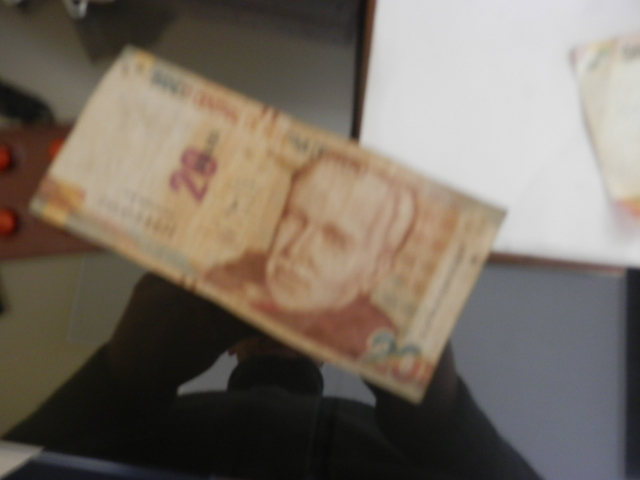B20: (34, 62, 500, 411)
